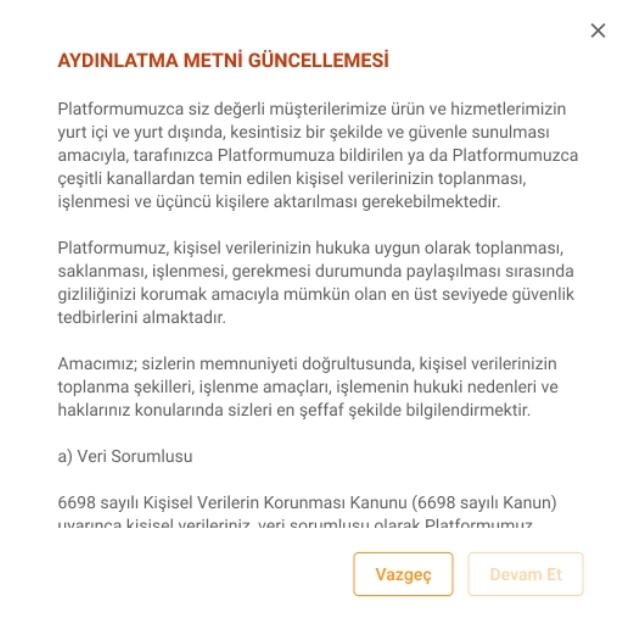QLabel: (56, 100, 580, 212), (55, 236, 579, 330), (55, 352, 561, 423), (53, 492, 560, 532), (54, 50, 396, 70), (54, 444, 194, 468), (484, 562, 570, 588), (370, 564, 434, 586)
VBtn: (466, 554, 586, 596), (352, 553, 456, 599)
VDialog: (12, 0, 628, 640)
VIcon: (584, 15, 612, 47)
